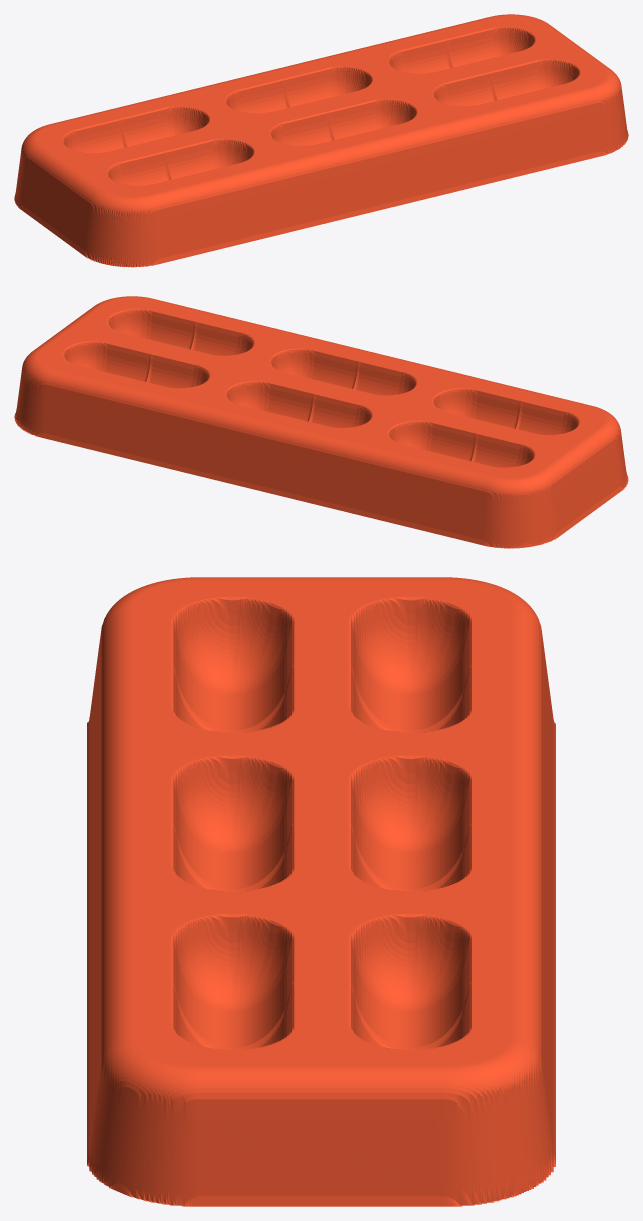
Rendered from mold.glb.
3 renders of one model, top to bottom at view 1: azimuth 30°, elevation 25°; view 2: azimuth 150°, elevation 25°; view 3: azimuth 270°, elevation 25°, orthographic. The views are drawn at different scales.
Visible parts, largest first — view 1: geometry_0; view 2: geometry_0; view 3: geometry_0.
Boxes of the visible parts, x1,y1,x2,y2 form: geometry_0: (14,14,628,267); geometry_0: (14,296,628,548); geometry_0: (87,577,555,1206).
Bounding box in the file's own units: 0.1004 × 0.0108 × 0.038.
